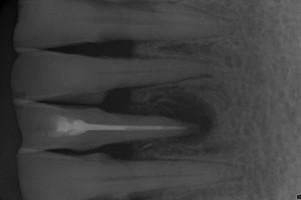Furcation Involvement: (147, 91, 217, 145)
